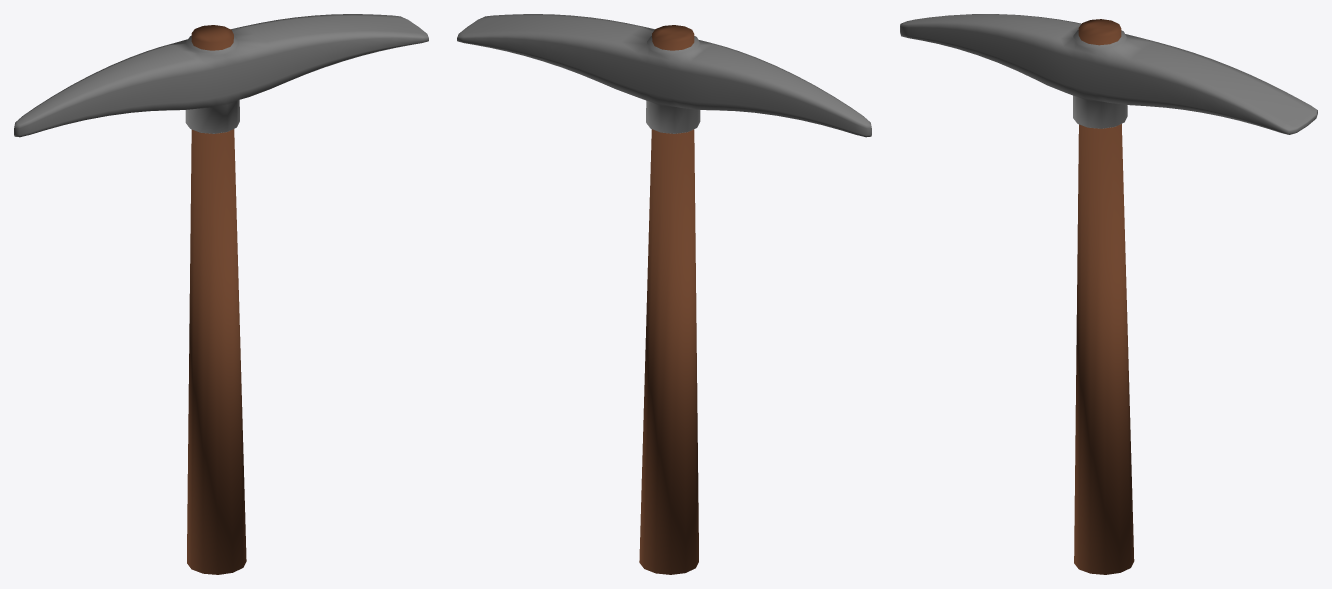
The model's file is pickaxe.fbx.
The picture shows the model from 3 angles, left to right: view 1: azimuth 30°, elevation 25°; view 2: azimuth 150°, elevation 25°; view 3: azimuth 330°, elevation 25°; orthographic projection.
Visible parts, largest first — view 1: 큐브; view 2: 큐브; view 3: 큐브.
Part boxes in pixels (x1=…): 큐브: x1=14, y1=14, x2=428, y2=574; 큐브: x1=457, y1=14, x2=871, y2=574; 큐브: x1=900, y1=14, x2=1317, y2=574.
Bounding box in the file's own units: 1559 × 1957 × 201.
